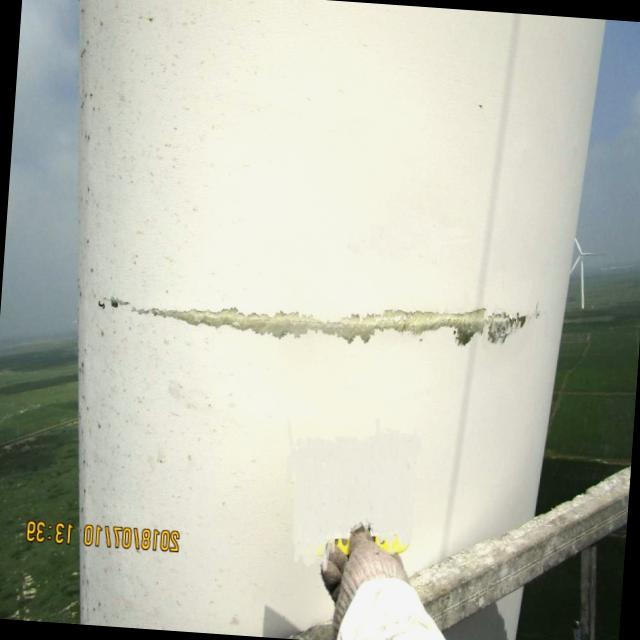surface_peeling: (140, 274, 539, 361)
